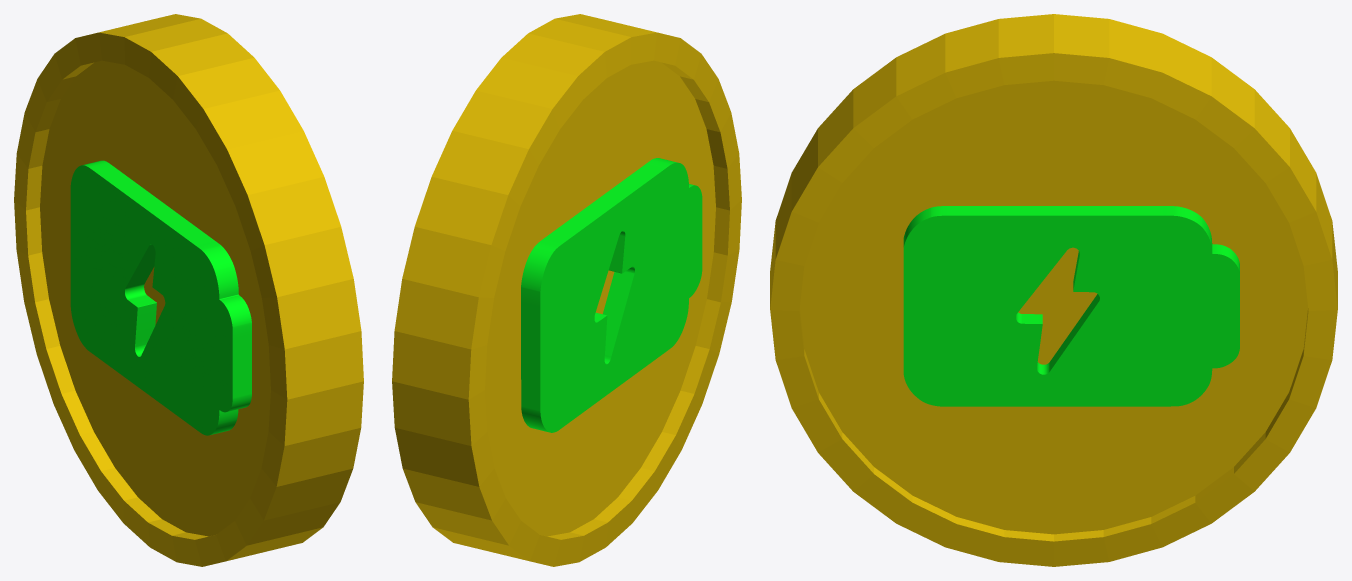
The model's file is BatteryCoin1.fbx.
3 renders of one model, left to right at view 1: azimuth 30°, elevation 25°; view 2: azimuth 150°, elevation 25°; view 3: azimuth 270°, elevation 25°, orthographic. The views are drawn at different scales.
Visible parts, largest first — view 1: Body, Front; view 2: Body, Front; view 3: Body, Back.
Part boxes in pixels (x1,y1,x2,y2): Body: (14,14,363,566); Front: (70,160,251,435); Body: (392,14,741,566); Front: (521,158,702,432); Body: (770,14,1337,566); Back: (903,206,1239,406).
Bounding box in the file's own units: 598 × 116 × 598.
